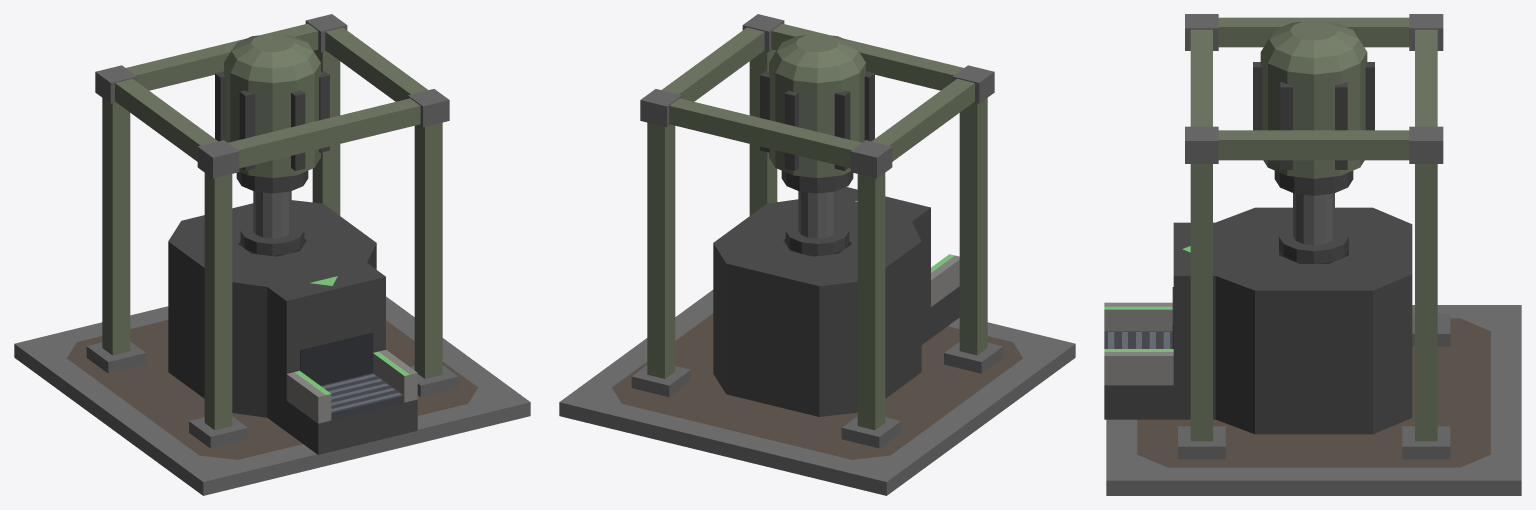
File: vfef_drill.obj
3 views of the same model, side by side, from view 1: azimuth 30°, elevation 25°; view 2: azimuth 150°, elevation 25°; view 3: azimuth 270°, elevation 25° (orthographic). The views are drawn at different scales.
Visible parts, largest first — view 1: vfef_drill_18, vfef_drill_0, vfef_drill_1, vfef_drill_3, vfef_drill_9, vfef_drill_6, vfef_drill_14, vfef_drill_24, vfef_drill_32, vfef_drill_31, vfef_drill_15, vfef_drill_16 (+21 smaller); view 2: vfef_drill_18, vfef_drill_0, vfef_drill_1, vfef_drill_6, vfef_drill_12, vfef_drill_3, vfef_drill_15, vfef_drill_24, vfef_drill_31, vfef_drill_14, vfef_drill_16, vfef_drill_17 (+17 smaller); view 3: vfef_drill_18, vfef_drill_0, vfef_drill_1, vfef_drill_24, vfef_drill_12, vfef_drill_9, vfef_drill_17, vfef_drill_31, vfef_drill_16, vfef_drill_32, vfef_drill_35, vfef_drill_15 (+18 smaller).
Part boxes in pixels (x1,y1,x2,y2): vfef_drill_18: (168, 200, 385, 431); vfef_drill_0: (14, 296, 530, 495); vfef_drill_1: (67, 320, 477, 459); vfef_drill_3: (204, 173, 232, 429); vfef_drill_9: (414, 122, 442, 378); vfef_drill_6: (102, 98, 130, 355); vfef_drill_14: (228, 98, 420, 168); vfef_drill_24: (224, 63, 320, 177); vfef_drill_32: (286, 399, 417, 454); vfef_drill_31: (224, 34, 320, 83); vfef_drill_15: (126, 23, 318, 90); vfef_drill_16: (115, 78, 217, 161); vfef_drill_18: (713, 187, 930, 416); vfef_drill_0: (559, 290, 1075, 495); vfef_drill_1: (612, 313, 1022, 459); vfef_drill_6: (857, 173, 885, 429); vfef_drill_12: (647, 122, 675, 378); vfef_drill_3: (959, 98, 987, 355); vfef_drill_15: (669, 98, 861, 168); vfef_drill_24: (769, 63, 865, 177); vfef_drill_31: (769, 34, 865, 83); vfef_drill_14: (771, 23, 963, 90); vfef_drill_16: (872, 78, 974, 161); vfef_drill_17: (661, 27, 764, 101); vfef_drill_18: (1173, 207, 1412, 434); vfef_drill_0: (1106, 305, 1521, 495); vfef_drill_1: (1137, 318, 1490, 467); vfef_drill_24: (1260, 52, 1367, 178); vfef_drill_12: (1415, 164, 1437, 441); vfef_drill_9: (1190, 164, 1212, 441); vfef_drill_17: (1218, 130, 1409, 160); vfef_drill_31: (1261, 20, 1366, 74); vfef_drill_16: (1218, 17, 1409, 47); vfef_drill_32: (1104, 385, 1173, 419); vfef_drill_35: (1104, 352, 1173, 385); vfef_drill_15: (1415, 29, 1437, 126).
Bounding box in the file's own units: 2.96 × 2.97 × 2.98.
